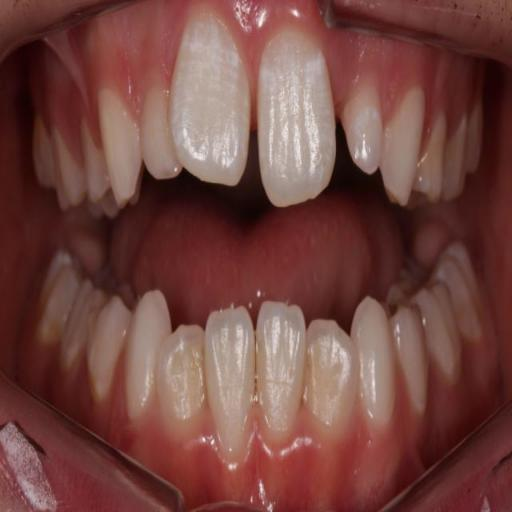spaced: (244, 102, 264, 166), (332, 106, 352, 168)
